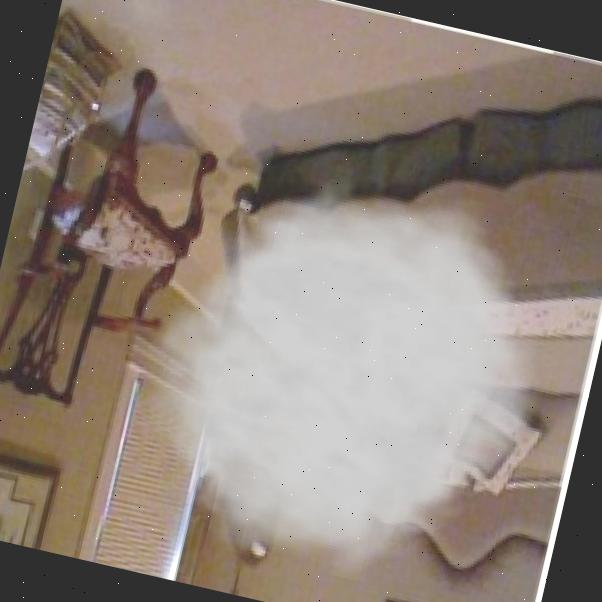smoke: (95, 128, 590, 602)
